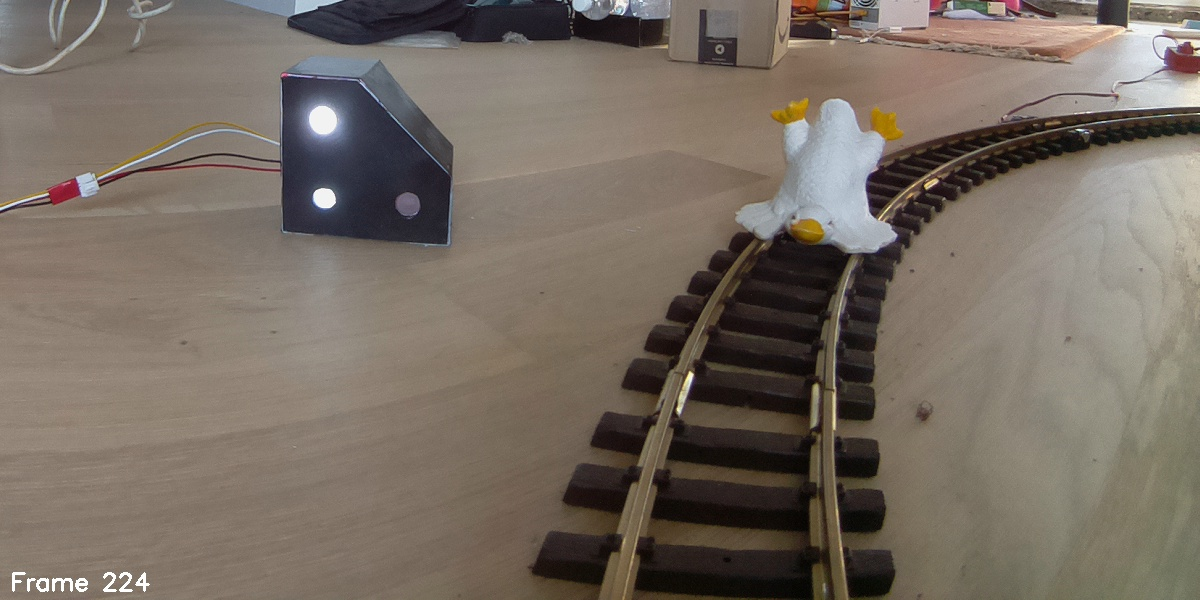Ente: (732, 90, 900, 260)
Fahrt: (279, 54, 458, 250)
